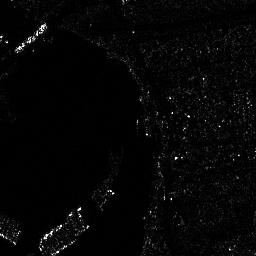ship: (14, 21, 47, 54)
